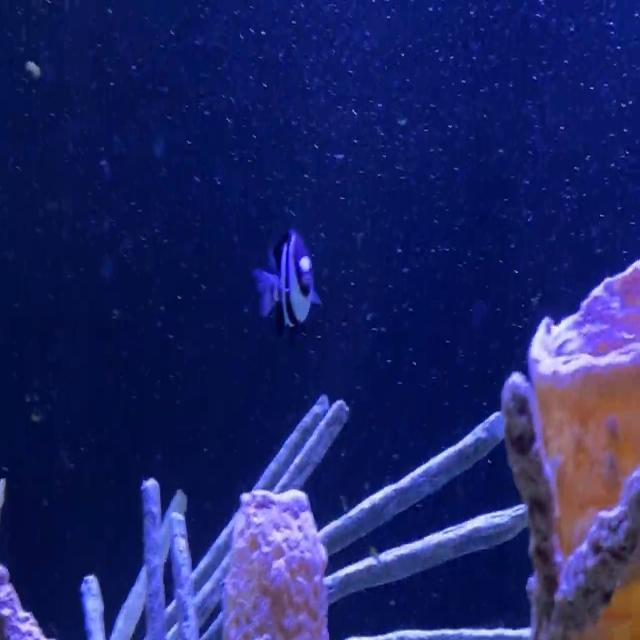ThreeStripedDamselfish: (253, 230, 321, 330)
